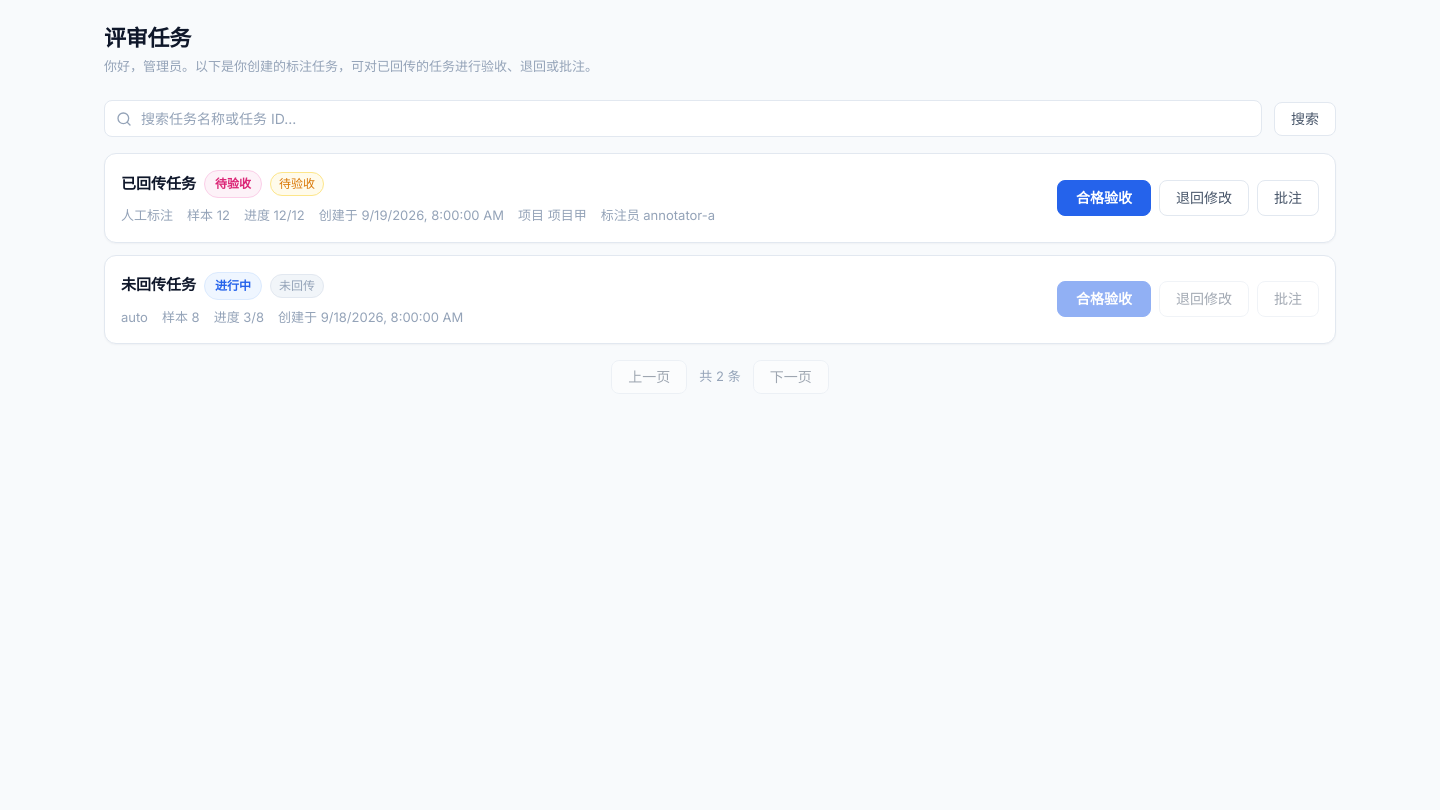
Test: AdminQueuePage › requires a reason before returning a batch
The width and height of the screenshot is (1440, 810).
Check: the text "已回传任务" is shown, box [121,173,196,195]
Click the button "退回修改" in the row of "annotator-a".
click(1204, 198)  # box [1159,180,1249,216]
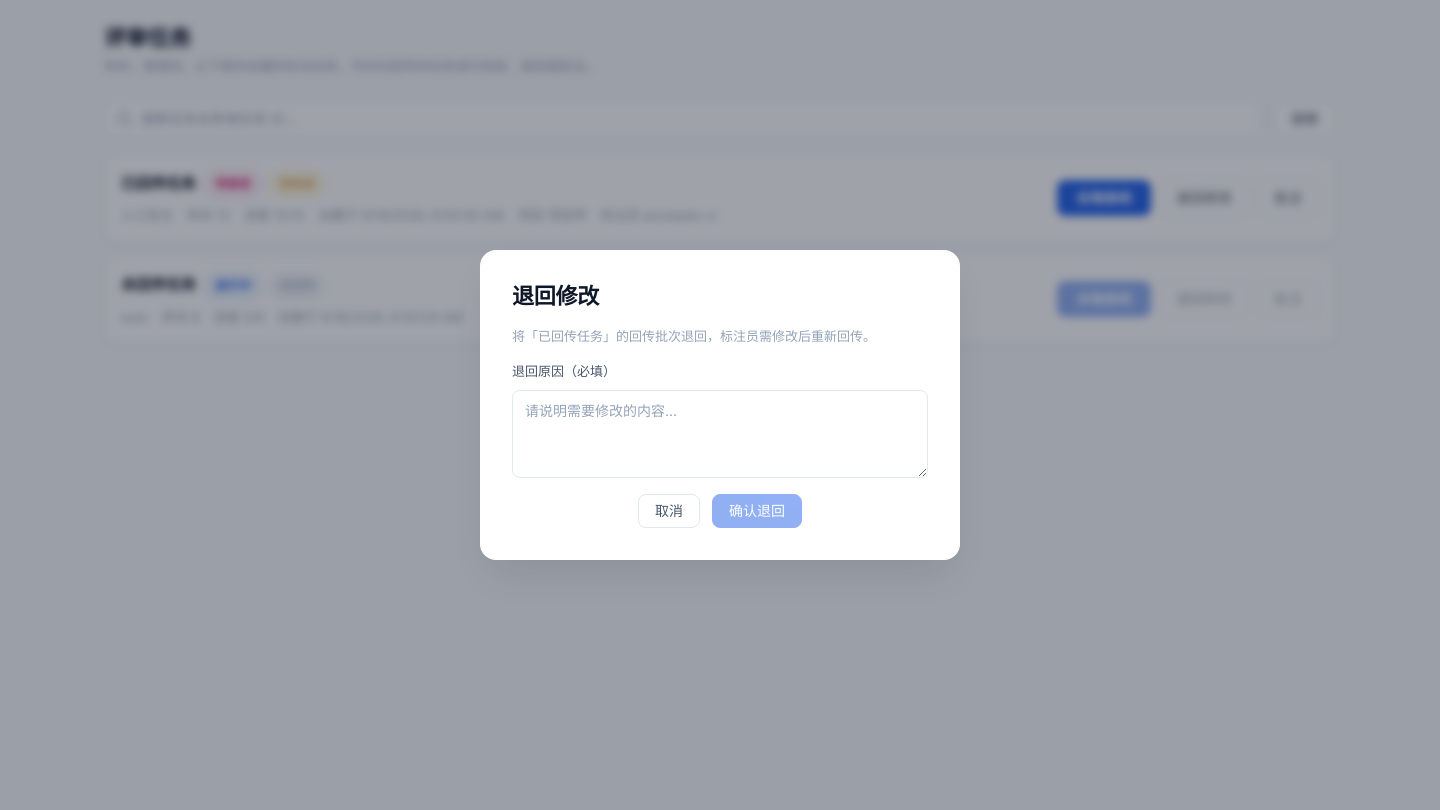
Check: the button "确认退回" is disabled, box [712,494,802,528]
Type "  请补充缺失的标签  " into the text box labelled "退回原因".
click(720, 434); type("  请补充缺失的标签  ")  # box [512,390,928,478]
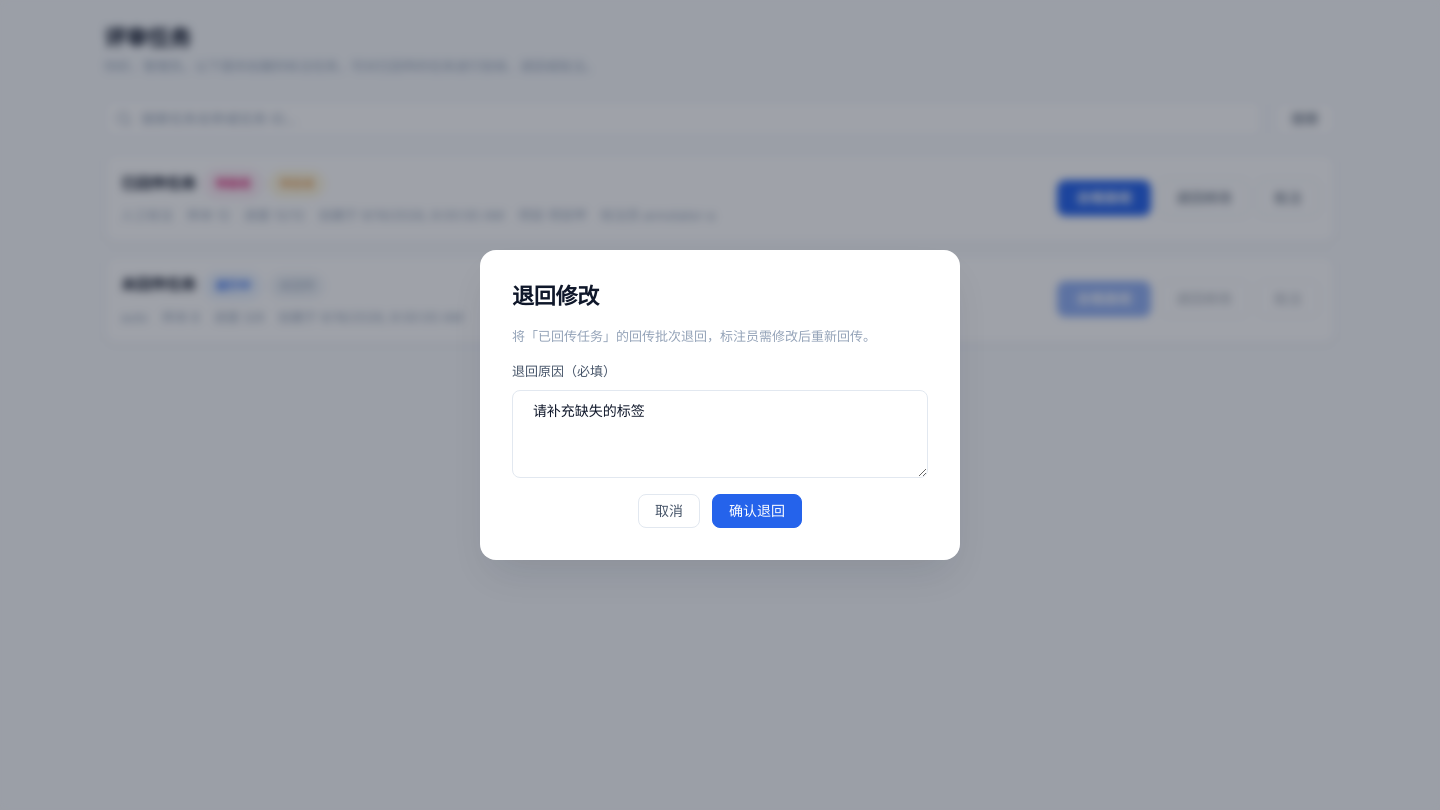
Check: the button "确认退回" is enabled
Click the button "确认退回".
click(757, 511)  # box [712,494,802,528]
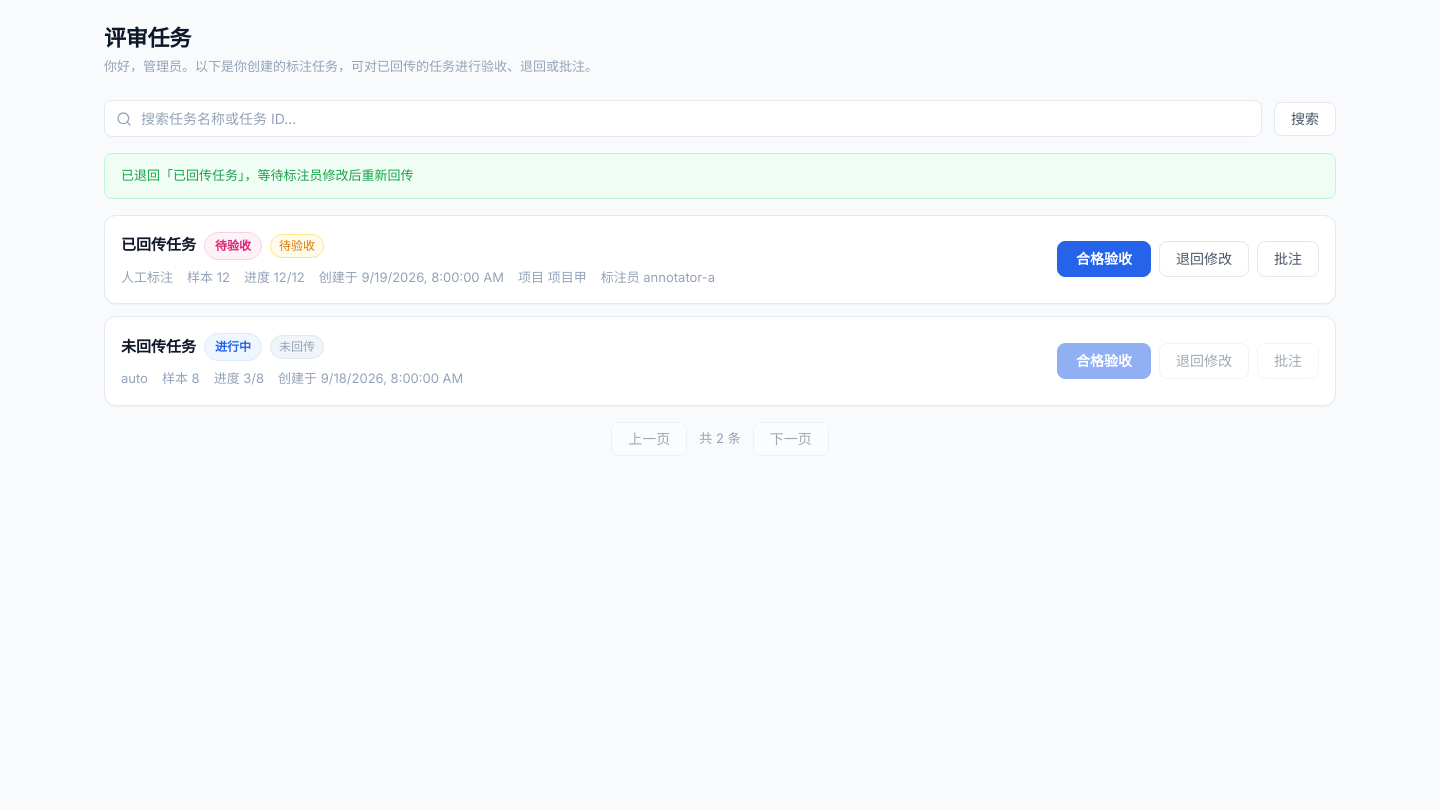
Check: the text "已退回「已回传任务」，等待标注员修改后重新回传" is shown, box [104,153,1336,199]
